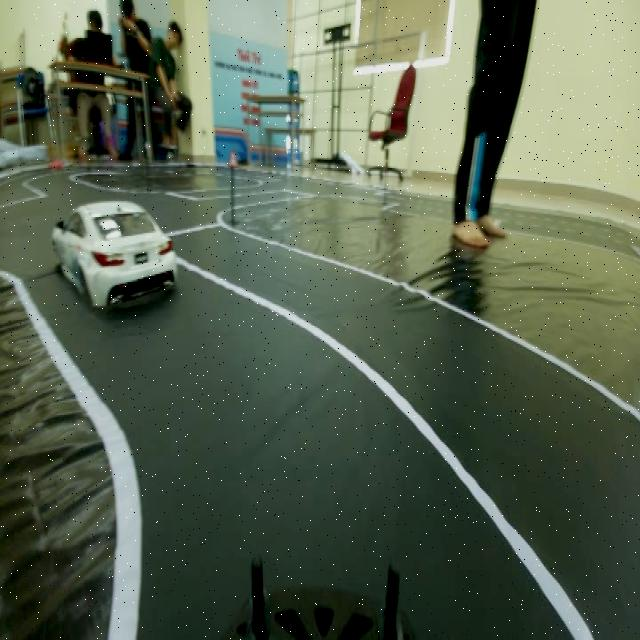car: (40, 187, 188, 326)
